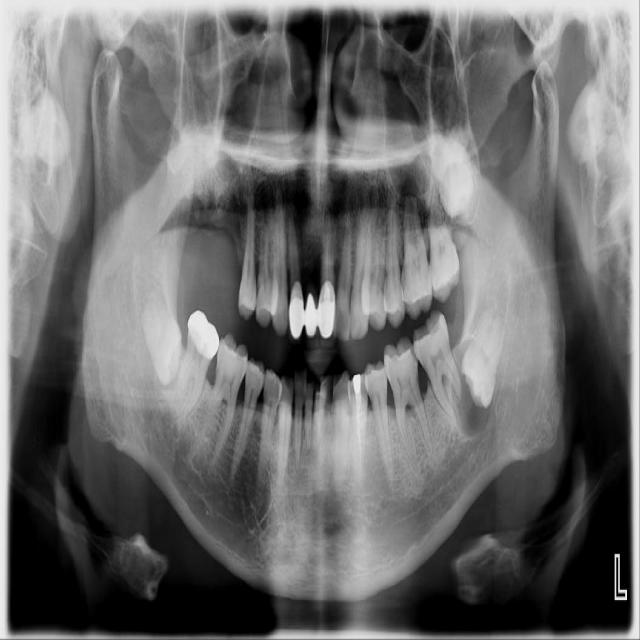Crown: (287, 282, 336, 338), (186, 312, 219, 361)
Filling: (347, 376, 367, 413)
Root Canal Treatment: (356, 414, 362, 469)
impacted tooth: (462, 291, 505, 406), (138, 273, 178, 384), (421, 131, 472, 215)
